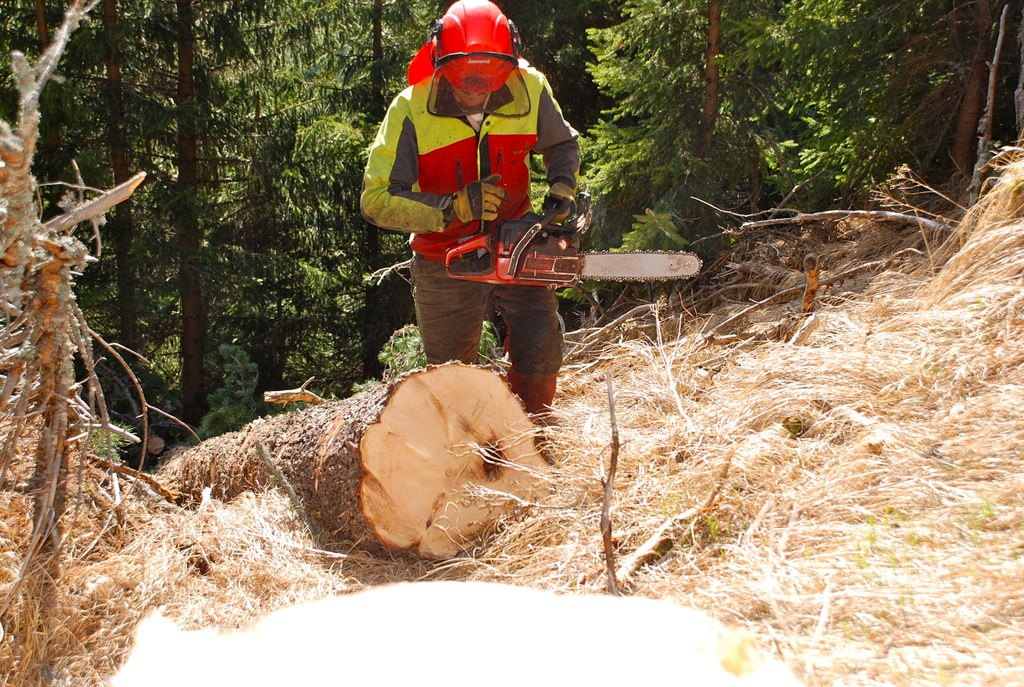Tree: (0, 2, 1024, 472)
